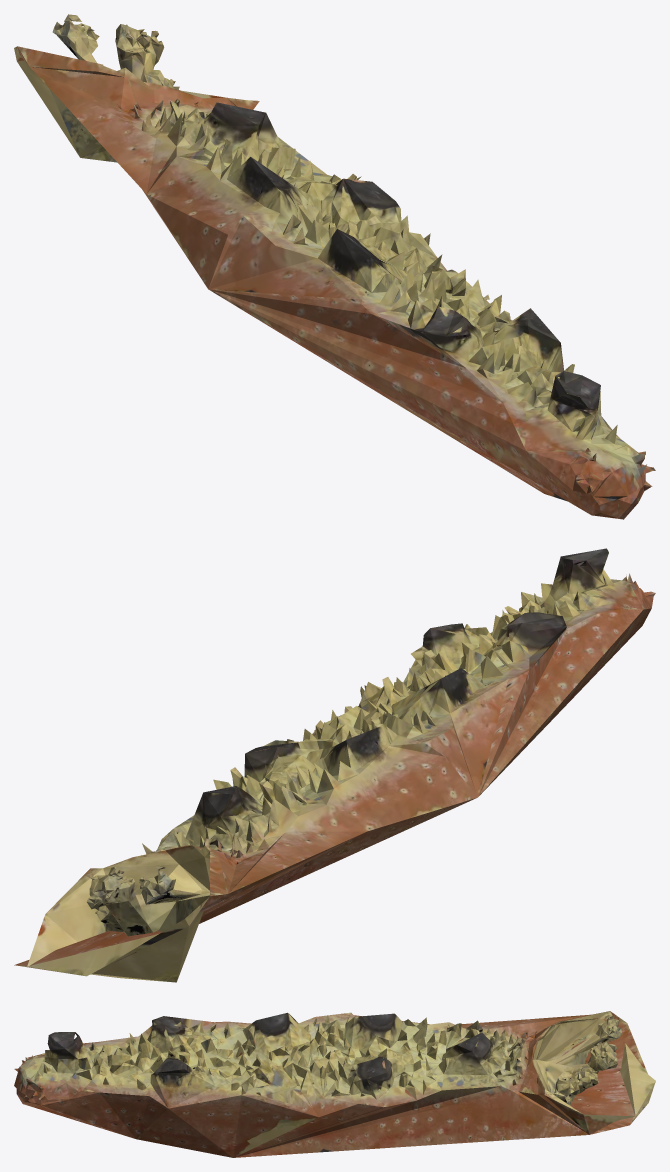
The model's file is cucumber.glb.
3 renders of one model, top to bottom at view 1: azimuth 30°, elevation 25°; view 2: azimuth 150°, elevation 25°; view 3: azimuth 270°, elevation 25°, orthographic. The views are drawn at different scales.
Visible parts, largest first — view 1: Object_2; view 2: Object_2; view 3: Object_2.
Boxes of the visible parts, x1=… form: Object_2: x1=14, y1=14, x2=655, y2=519; Object_2: x1=14, y1=548, x2=655, y2=982; Object_2: x1=14, y1=1011, x2=655, y2=1157.
Size of the model in its own units: 63.27 by 52.19 by 251.
1 material, 1 textured.
